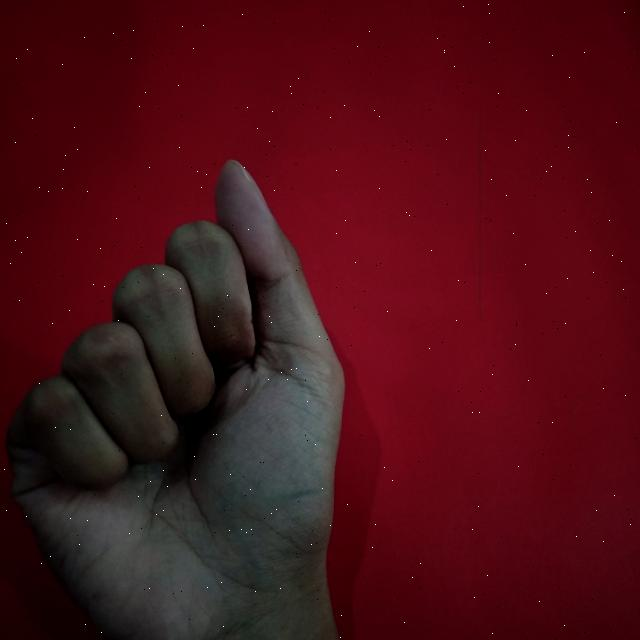A: (0, 143, 354, 640)
